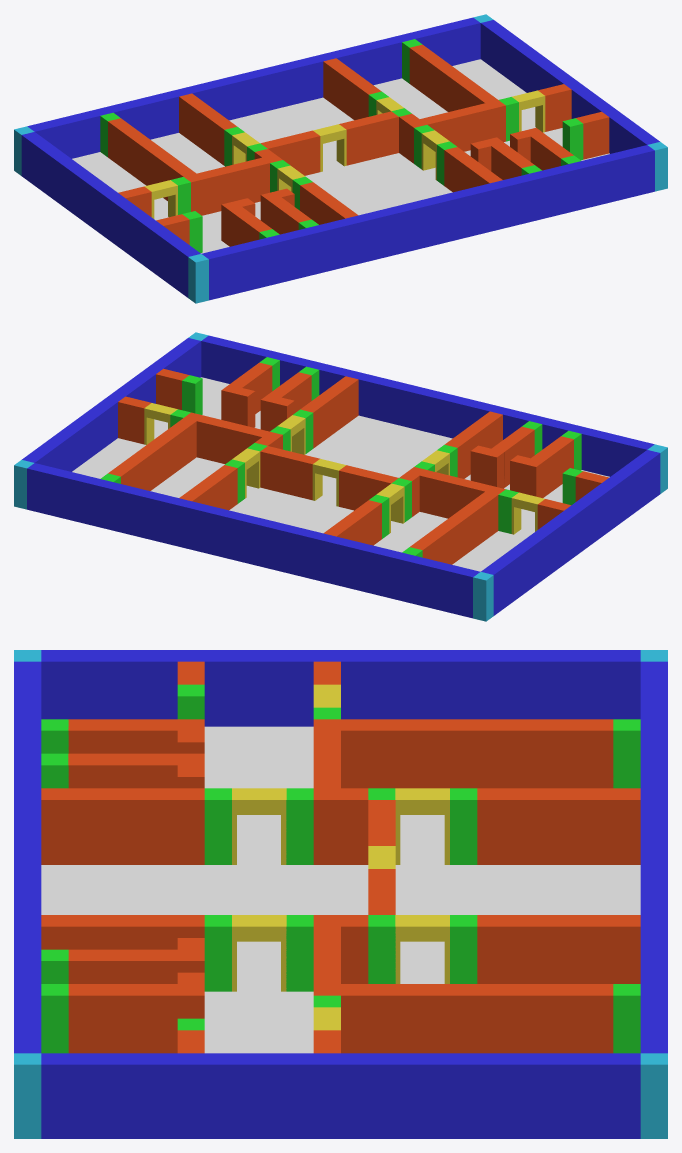
Rendered from Stage.fbx.
3 views of the same model, one above another, from view 1: azimuth 30°, elevation 25°; view 2: azimuth 150°, elevation 25°; view 3: azimuth 270°, elevation 25° (orthographic). The views are drawn at different scales.
Parts seen in each view (by area): view 1: OuterWall 2x1.003, OuterWall 2x1.006, OuterWall 2x1.009, OuterWall 2x1.012, OuterWall 2x1.013, OuterWall 2x1.015, OuterWall 2x1.049, OuterWall 2x1.004, OuterWall 2x1.008, OuterWall 2x1.010, OuterWall 2x1.011, OuterWall 2x1.014 (+96 smaller); view 2: OuterWall 2x1.035, OuterWall 2x1.038, OuterWall 2x1.041, OuterWall 2x1.044, OuterWall 2x1.045, OuterWall 2x1.047, OuterWall 2x1.050, OuterWall 2x1.036, OuterWall 2x1.040, OuterWall 2x1.042, OuterWall 2x1.043, OuterWall 2x1.046 (+94 smaller); view 3: OuterWall 2x1.026, OuterWall 2x1.028, OuterWall 2x1.030, OuterWall 2x1.031, OuterWall 2x1.056, OuterWall 2x1.025, OuterWall 2x1.027, OuterWall 2x1.029, OuterWall 2x1.032, OuterWall 2x1.054, OuterWall 2x1.055, InnerWall 2x1.005 (+98 smaller).
Boxes of the visible parts, <box> form: OuterWall 2x1.003: <box>254,234,287,287</box>; OuterWall 2x1.006: <box>333,215,366,268</box>; OuterWall 2x1.009: <box>411,196,444,248</box>; OuterWall 2x1.012: <box>490,177,523,229</box>; OuterWall 2x1.013: <box>516,170,549,223</box>; OuterWall 2x1.015: <box>569,158,602,210</box>; OuterWall 2x1.049: <box>595,151,628,204</box>; OuterWall 2x1.004: <box>280,228,313,280</box>; OuterWall 2x1.008: <box>385,202,418,255</box>; OuterWall 2x1.010: <box>438,190,471,242</box>; OuterWall 2x1.011: <box>464,183,497,236</box>; OuterWall 2x1.014: <box>542,164,576,217</box>; OuterWall 2x1.035: <box>394,552,427,605</box>; OuterWall 2x1.038: <box>315,533,348,586</box>; OuterWall 2x1.041: <box>237,514,270,566</box>; OuterWall 2x1.044: <box>158,495,191,547</box>; OuterWall 2x1.045: <box>132,488,165,541</box>; OuterWall 2x1.047: <box>79,476,112,528</box>; OuterWall 2x1.050: <box>53,469,86,522</box>; OuterWall 2x1.036: <box>368,546,401,598</box>; OuterWall 2x1.040: <box>263,520,296,573</box>; OuterWall 2x1.042: <box>210,508,243,560</box>; OuterWall 2x1.043: <box>184,501,217,554</box>; OuterWall 2x1.046: <box>105,482,139,535</box>; OuterWall 2x1.026: <box>422,1053,477,1138</box>; OuterWall 2x1.028: <box>313,1053,368,1138</box>; OuterWall 2x1.030: <box>204,1053,259,1138</box>; OuterWall 2x1.031: <box>95,1053,150,1138</box>; OuterWall 2x1.056: <box>531,1053,586,1138</box>; OuterWall 2x1.025: <box>586,1053,640,1138</box>; OuterWall 2x1.027: <box>368,1053,422,1138</box>; OuterWall 2x1.029: <box>259,1053,313,1138</box>; OuterWall 2x1.032: <box>41,1053,95,1138</box>; OuterWall 2x1.054: <box>150,1053,204,1138</box>; OuterWall 2x1.055: <box>477,1053,531,1138</box>; InnerWall 2x1.005: <box>95,788,150,864</box>.
Bounding box in the file's own units: 3600 × 300 × 2400.
